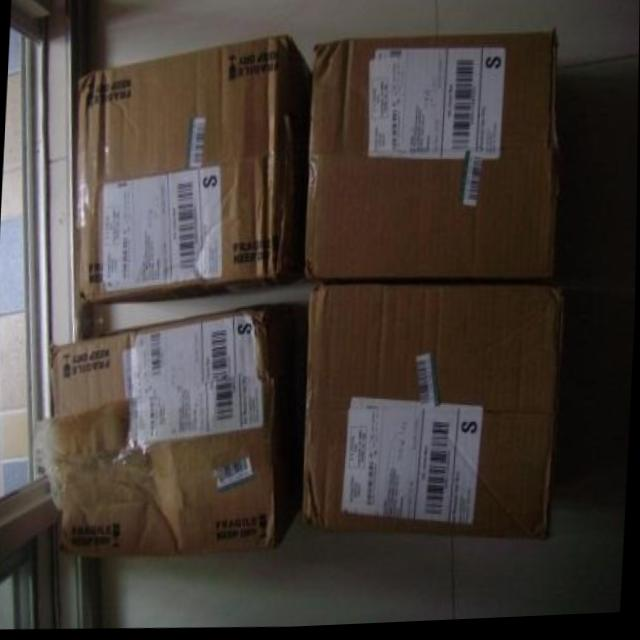box: (302, 286, 565, 549), (34, 306, 296, 557), (76, 36, 312, 310), (302, 35, 560, 284)
